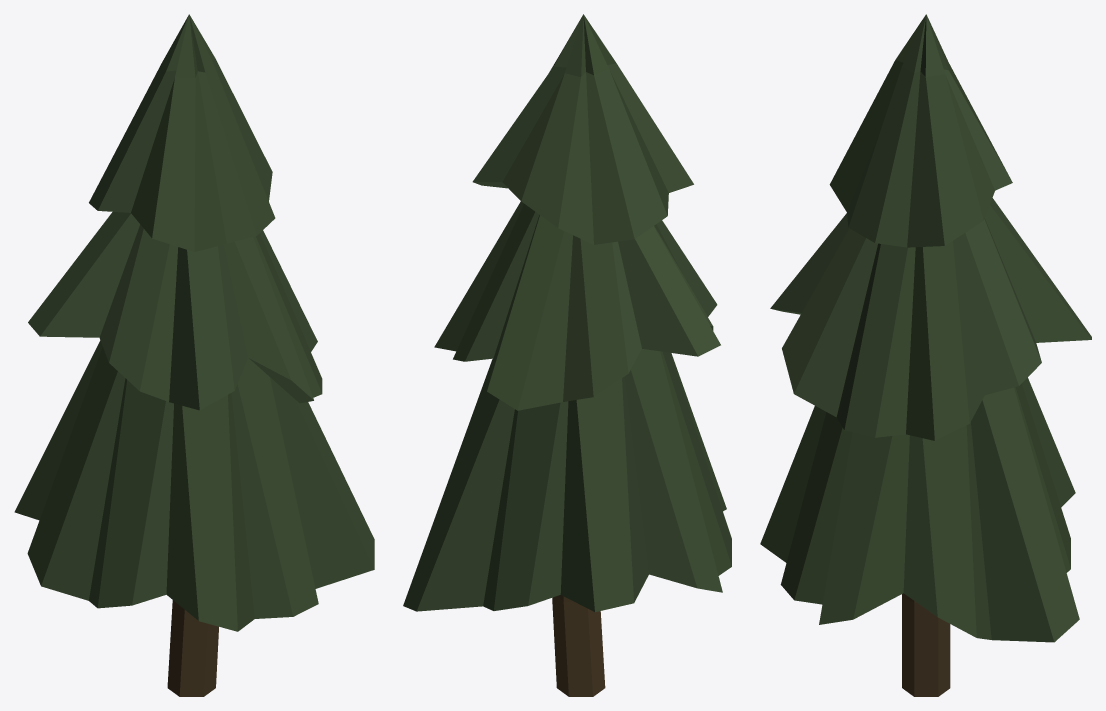
The model's file is sapin_3.fbx.
3 views of the same model, side by side, from view 1: azimuth 30°, elevation 25°; view 2: azimuth 150°, elevation 25°; view 3: azimuth 270°, elevation 25° (orthographic).
Visible parts, largest first — view 1: sapin3.001; view 2: sapin3.001; view 3: sapin3.001.
Boxes of the visible parts, x1,y1,x2,y2 form: sapin3.001: (14, 14, 374, 696); sapin3.001: (403, 14, 731, 696); sapin3.001: (760, 14, 1091, 696).
Size of the model in its own units: 329 by 725 by 324.
